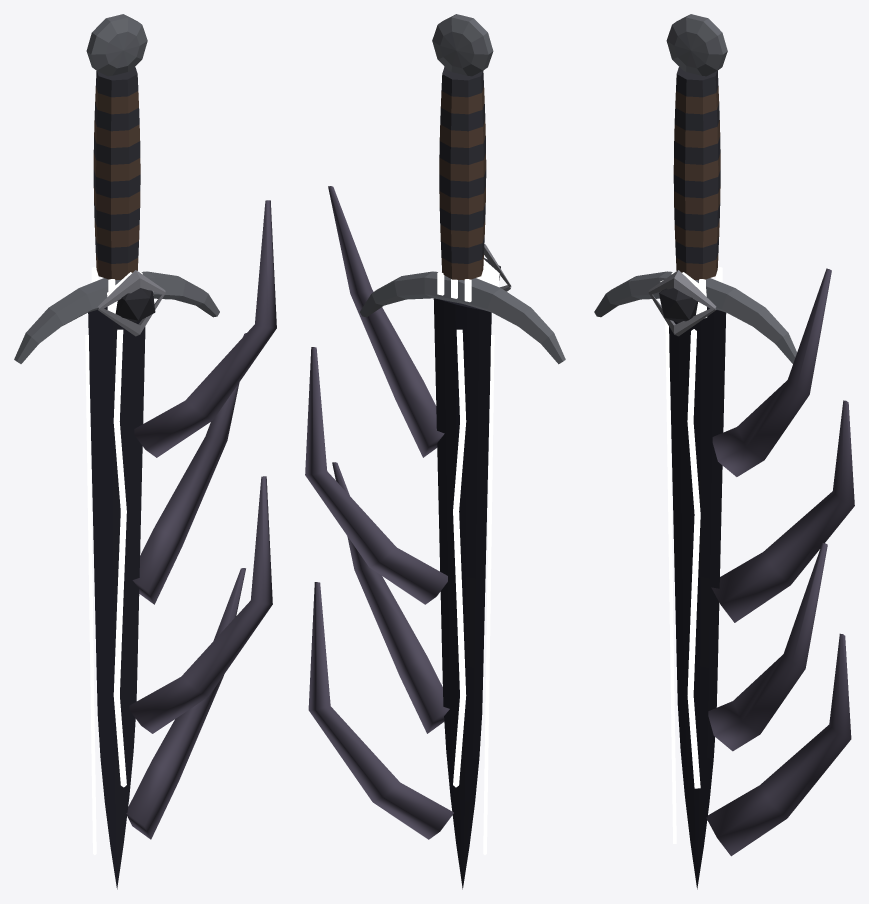
The model's file is blade-night-edge.glb.
3 renders of one model, left to right at view 1: azimuth 30°, elevation 25°; view 2: azimuth 150°, elevation 25°; view 3: azimuth 330°, elevation 25°, orthographic.
Visible parts, largest first — view 1: blade-night-edge, pulse_vein, blink_eye; view 2: blade-night-edge, pulse_vein, pulse_breath, blink_eye; view 3: blade-night-edge, pulse_vein, blink_eye.
Part boxes in pixels (box(x1,y1,x2,y2)): blade-night-edge: box(14, 14, 276, 889); pulse_vein: box(113, 329, 126, 787); blink_eye: box(98, 270, 165, 336); blade-night-edge: box(305, 14, 565, 889); pulse_vein: box(453, 329, 466, 787); pulse_breath: box(437, 266, 488, 302); blink_eye: box(476, 244, 511, 291); blade-night-edge: box(594, 14, 854, 889); pulse_vein: box(687, 329, 700, 788); blink_eye: box(648, 270, 716, 336).
Bounding box in the file's own units: 0.3603 × 1.22 × 0.1347.
